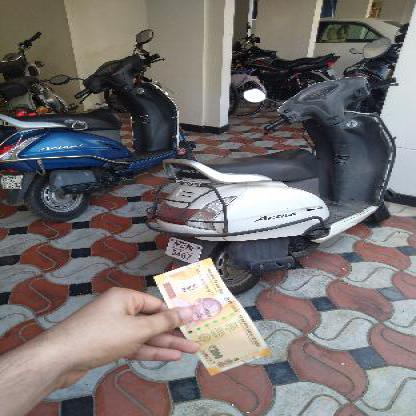New200Front: (151, 260, 264, 373)
